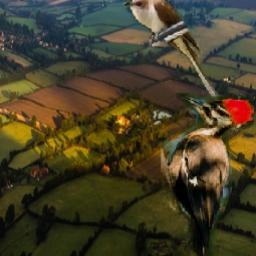Cuckoo: (123, 0, 221, 105)
Woodpecker: (158, 93, 254, 256)
